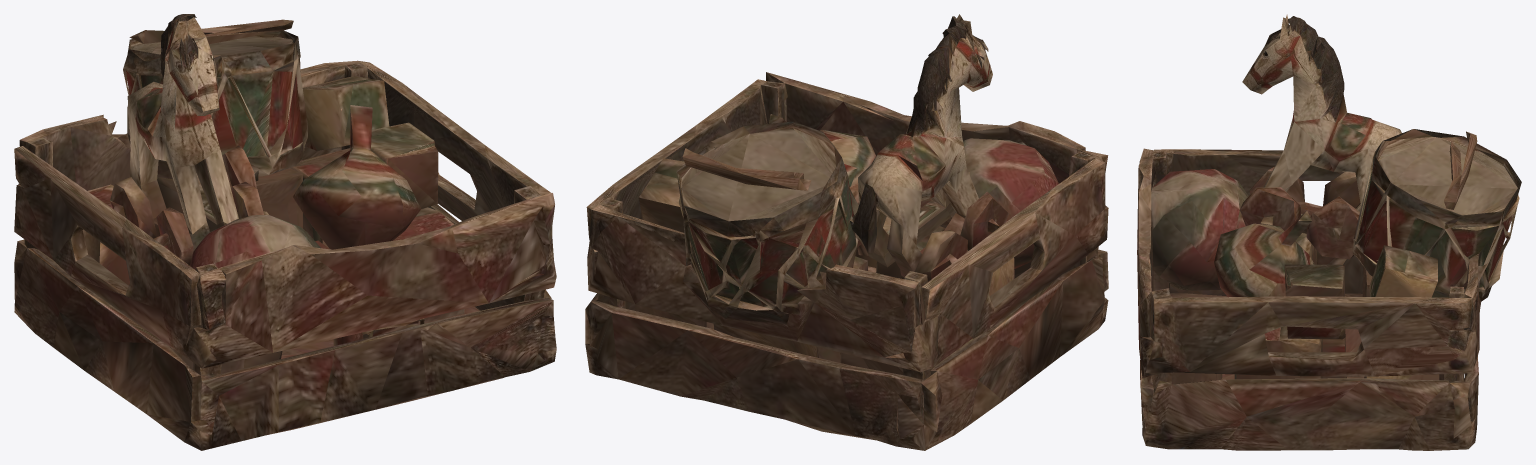
Rendered from up_crate_b.glb.
3 renders of one model, left to right at view 1: azimuth 30°, elevation 25°; view 2: azimuth 150°, elevation 25°; view 3: azimuth 270°, elevation 25°, orthographic. The views are drawn at different scales.
Visible parts, largest first — view 1: up_crate_b; view 2: up_crate_b; view 3: up_crate_b.
Part boxes in pixels (<box>): up_crate_b: <box>14,14,556,450</box>; up_crate_b: <box>585,14,1108,450</box>; up_crate_b: <box>1137,14,1521,450</box>.
Bounding box in the file's own units: 0.4394 × 0.42 × 0.4628.
Materials: 1 (1 with a texture image).
